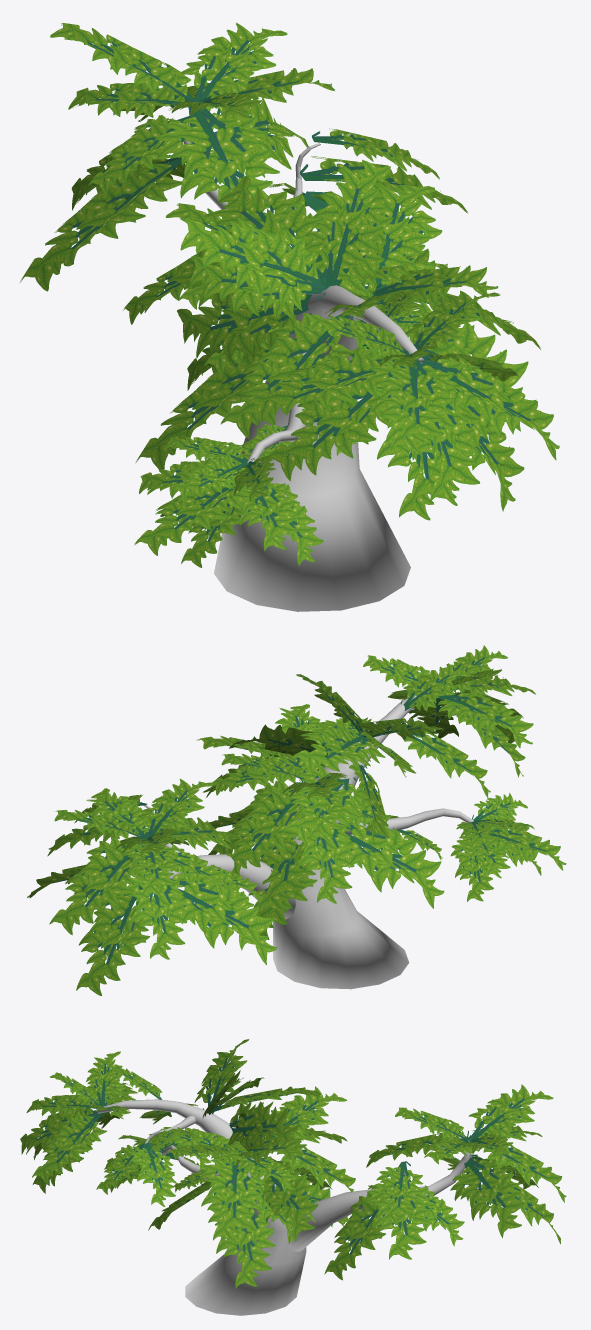
The model's file is arbre_classique (1).fbx.
3 renders of one model, top to bottom at view 1: azimuth 30°, elevation 25°; view 2: azimuth 150°, elevation 25°; view 3: azimuth 270°, elevation 25°, orthographic. The views are drawn at different scales.
Visible parts, largest first — view 1: Plane001, Cylinder001; view 2: Plane001, Cylinder001; view 3: Plane001, Cylinder001.
Boxes of the visible parts, bbox=[...] form: Plane001: bbox=[20, 22, 559, 567]; Cylinder001: bbox=[183, 102, 423, 611]; Plane001: bbox=[27, 645, 566, 995]; Cylinder001: bbox=[144, 695, 476, 989]; Plane001: bbox=[20, 1039, 566, 1288]; Cylinder001: bbox=[97, 1099, 471, 1315].
Bounding box in the file's own units: 129 × 92.1 × 198.
